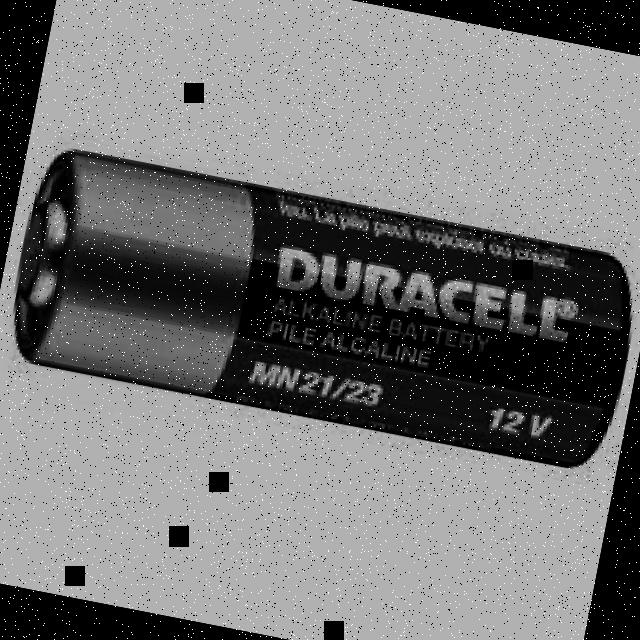battery: (14, 151, 632, 468)
